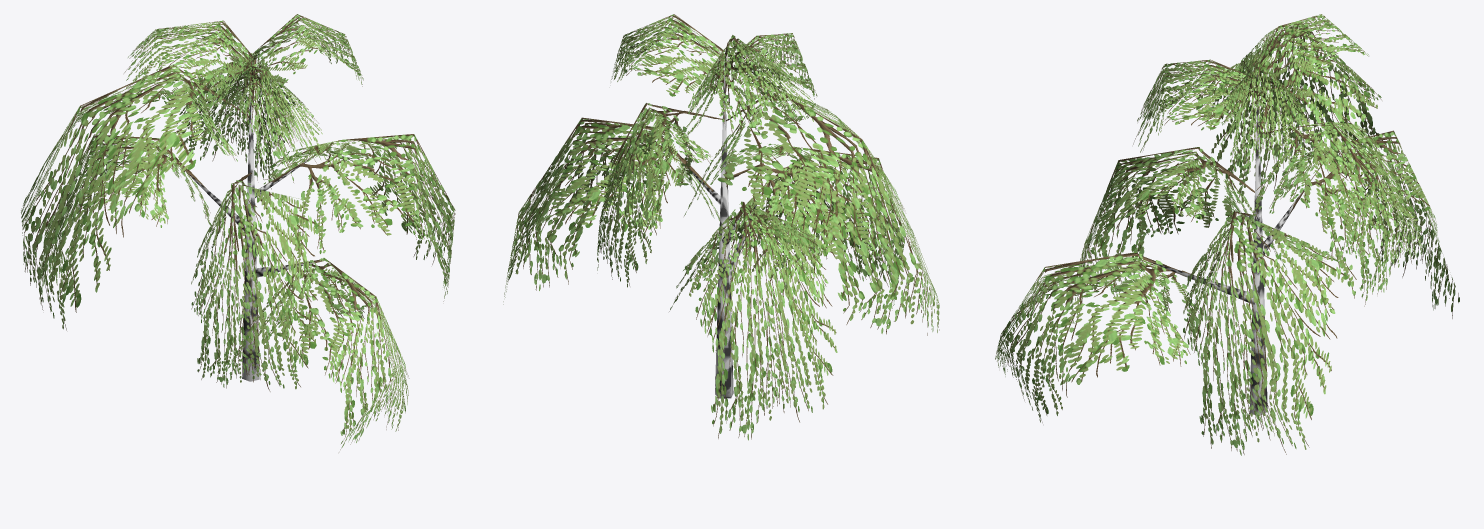
File: Birch.fbx
The picture shows the model from 3 angles, left to right: view 1: azimuth 30°, elevation 25°; view 2: azimuth 150°, elevation 25°; view 3: azimuth 270°, elevation 25°; orthographic projection. The views are drawn at different scales.
Visible parts, largest first — view 1: Birch; view 2: Birch; view 3: Birch.
Boxes of the visible parts, bbox=[...] form: Birch: bbox=[21, 14, 455, 449]; Birch: bbox=[503, 14, 939, 440]; Birch: bbox=[995, 14, 1459, 455].
Size of the model in its own units: 1120 by 1017 by 1064.
